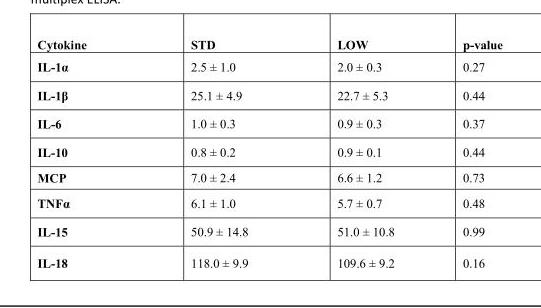table: (36, 37, 501, 269)
table column: (137, 37, 291, 269), (291, 37, 427, 269), (36, 37, 137, 269), (427, 37, 501, 269)
table row: (36, 216, 501, 246), (36, 80, 501, 109), (36, 109, 501, 137), (36, 137, 501, 164), (36, 189, 501, 216), (36, 55, 501, 80), (36, 164, 501, 189), (36, 246, 501, 269), (36, 37, 501, 55)
